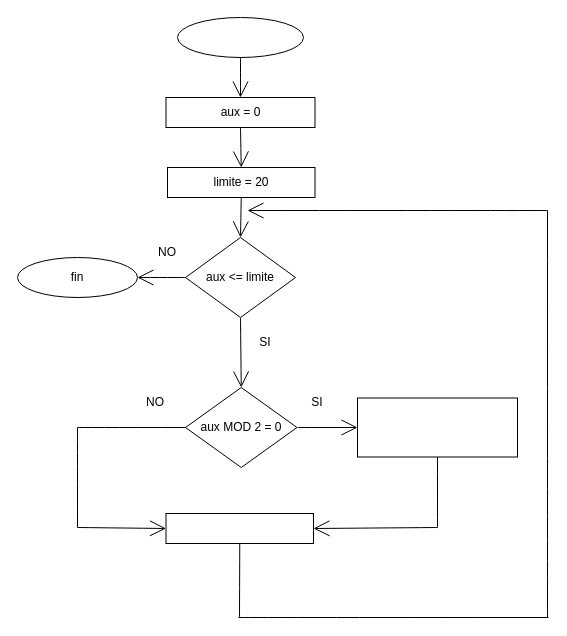
Image size: 567x636. Some labels were removed from this diagram. The shapes that lost their labels are listed below. From the top down, each one's box as (x1, y1, x2, y2) in pixels, then its label:
(176, 16, 304, 58): inicio
(356, 397, 518, 457): Mostrarmos por pantalla el valor de 'i'
(165, 512, 314, 544): aux = aux + 1
